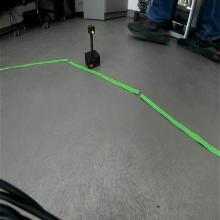green: (86, 24, 96, 34)
